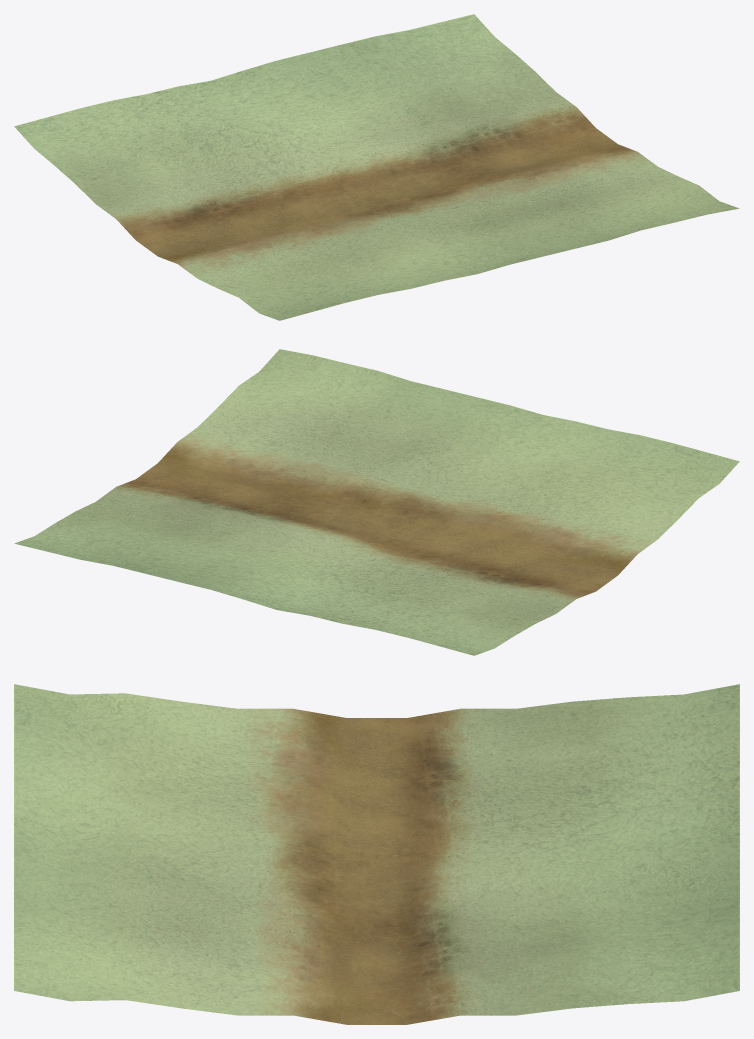
Rendered from ground.fbx.
The picture shows the model from 3 angles, top to bottom: view 1: azimuth 30°, elevation 25°; view 2: azimuth 150°, elevation 25°; view 3: azimuth 270°, elevation 25°; orthographic projection. The views are drawn at different scales.
Visible parts, largest first — view 1: Ground; view 2: Ground; view 3: Ground.
Boxes of the visible parts, x1,y1,x2,y2 form: Ground: [14, 14, 739, 320]; Ground: [14, 349, 739, 655]; Ground: [14, 684, 739, 1024].
Size of the model in its own units: 3000 by 169 by 3000.
1 material, 1 textured.
